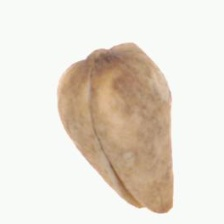L1: (66, 42, 133, 67), (123, 195, 175, 214)
L2: (57, 42, 174, 215)
